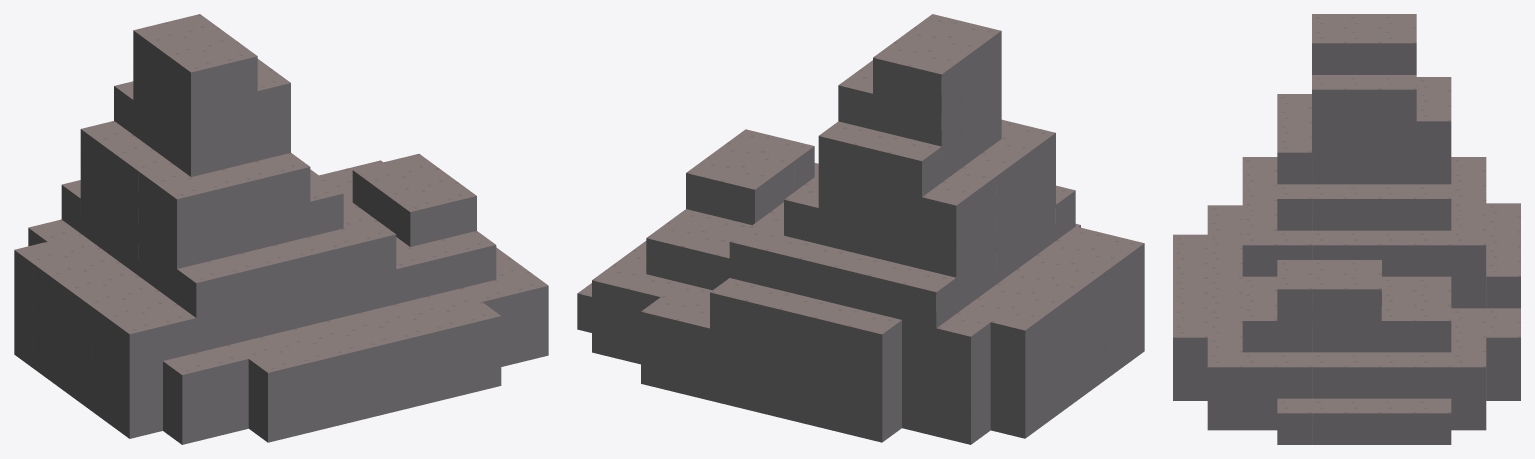
File: stone_big.fbx
The picture shows the model from 3 angles, left to right: view 1: azimuth 30°, elevation 25°; view 2: azimuth 150°, elevation 25°; view 3: azimuth 270°, elevation 25°; orthographic projection. The views are drawn at different scales.
Parts seen in each view (by area): view 1: stone_big77, stone_big361, stone_big332, stone_big338, stone_big343, stone_big155, stone_big333, stone_big68, stone_big243, stone_big350, stone_big330, stone_big221 (+103 smaller); view 2: stone_big5, stone_big237, stone_big411, stone_big319, stone_big233, stone_big325, stone_big348, stone_big303, stone_big70, stone_big4, stone_big356, stone_big177 (+99 smaller); view 3: stone_big400, stone_big417, stone_big40, stone_big47, stone_big53, stone_big55, stone_big166, stone_big366, stone_big216, stone_big176, stone_big305, stone_big294 (+97 smaller).
Part boxes in pixels (x1,y1,x2,y2): stone_big77: (157, 177, 210, 233); stone_big361: (248, 351, 301, 407); stone_big332: (172, 50, 224, 107); stone_big338: (163, 353, 215, 409); stone_big343: (110, 312, 162, 368); stone_big155: (177, 261, 229, 317); stone_big333: (391, 190, 443, 246); stone_big68: (248, 394, 301, 442); stone_big243: (157, 220, 210, 268); stone_big350: (110, 390, 162, 438); stone_big330: (163, 396, 215, 444); stone_big221: (172, 128, 224, 176); stone_big5: (847, 311, 901, 370); stone_big237: (902, 269, 956, 328); stone_big411: (922, 182, 976, 241); stone_big319: (887, 138, 941, 196); stone_big233: (936, 314, 990, 372); stone_big325: (907, 51, 961, 110); stone_big348: (990, 307, 1044, 366); stone_big303: (720, 167, 774, 224); stone_big70: (936, 394, 990, 444); stone_big4: (847, 392, 901, 442); stone_big356: (990, 352, 1044, 402); stone_big177: (907, 96, 961, 146); stone_big400: (1416, 184, 1451, 230); stone_big417: (1416, 106, 1451, 152); stone_big40: (1416, 352, 1451, 398); stone_big47: (1207, 352, 1242, 398); stone_big53: (1451, 352, 1486, 398); stone_big55: (1242, 352, 1277, 398); stone_big166: (1451, 230, 1486, 276); stone_big366: (1381, 398, 1416, 444); stone_big216: (1242, 230, 1277, 276); stone_big176: (1416, 230, 1451, 276); stone_big305: (1416, 306, 1451, 352); stone_big294: (1242, 306, 1277, 352).
Size of the model in its own units: 324 by 225 by 249.
